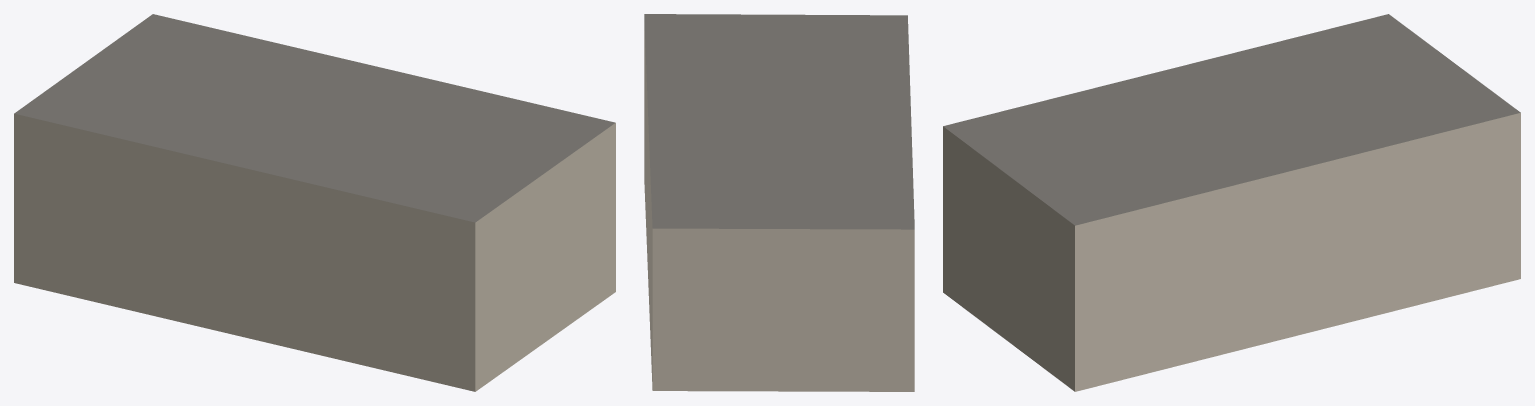
3 renders of one model, left to right at view 1: azimuth 30°, elevation 25°; view 2: azimuth 150°, elevation 25°; view 3: azimuth 270°, elevation 25°, orthographic. The views are drawn at different scales.
Visible parts, largest first — view 1: HP-w1211522347; view 2: HP-w1211522347; view 3: HP-w1211522347.
Boxes of the visible parts, <box> form: HP-w1211522347: <box>14,14,615,391</box>; HP-w1211522347: <box>644,14,914,391</box>; HP-w1211522347: <box>943,14,1520,391</box>.
Size of the model in its own units: 49.15 by 18 by 56.7.
